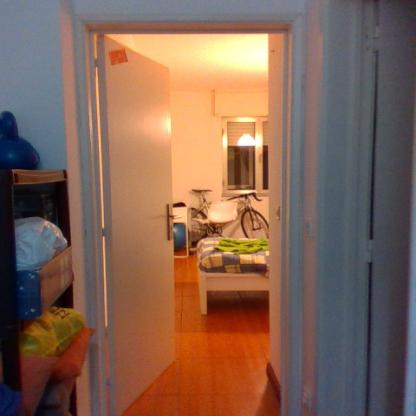open: (20, 0, 328, 413)
